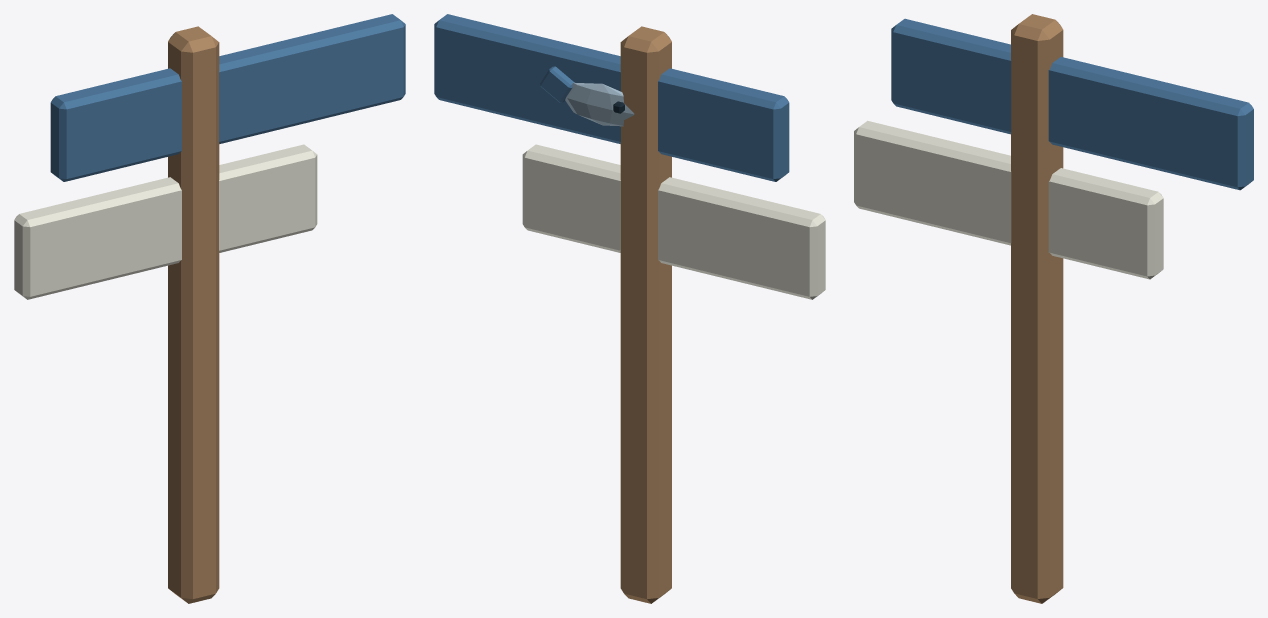
Rendered from beach_sign.glb.
3 views of the same model, side by side, from view 1: azimuth 30°, elevation 25°; view 2: azimuth 150°, elevation 25°; view 3: azimuth 330°, elevation 25° (orthographic). The views are drawn at different scales.
Parts seen in each view (by area): view 1: upper_board, post, lower_board; view 2: post, upper_board, lower_board, whale_badge, tail_left; view 3: upper_board, post, lower_board.
Part boxes in pixels (x1,y1,x2,y2): upper_board: (50,14,405,181); post: (168,26,219,603); lower_board: (14,144,317,299); post: (620,26,671,603); upper_board: (434,14,789,181); lower_board: (522,144,825,299); whale_badge: (565,82,634,126); tail_left: (540,66,574,102); upper_board: (891,18,1253,190); post: (1011,14,1063,603); lower_board: (854,120,1163,279).
Bounding box in the file's own units: 1.11 × 1.55 × 0.134.
